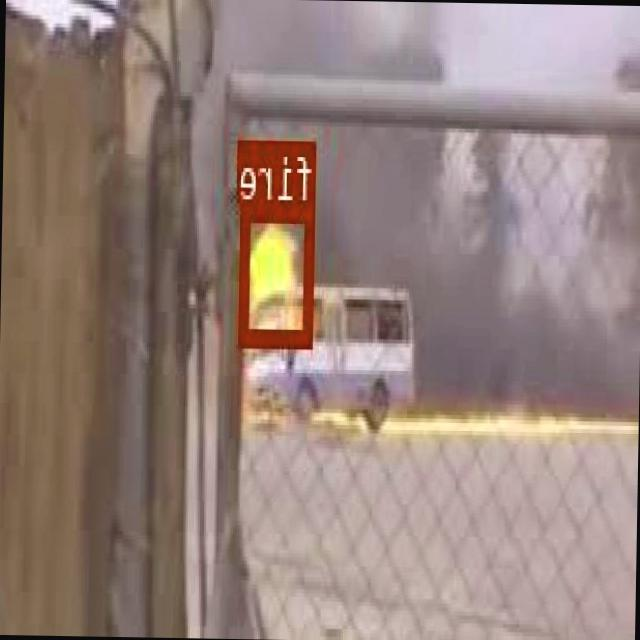fire: (241, 200, 316, 345)
